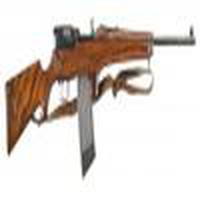gun: (1, 19, 198, 179)
